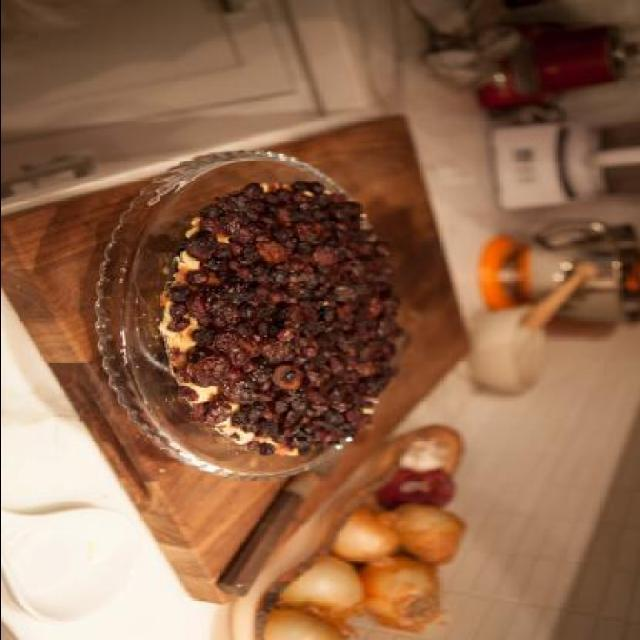Cake: (160, 178, 406, 456)
